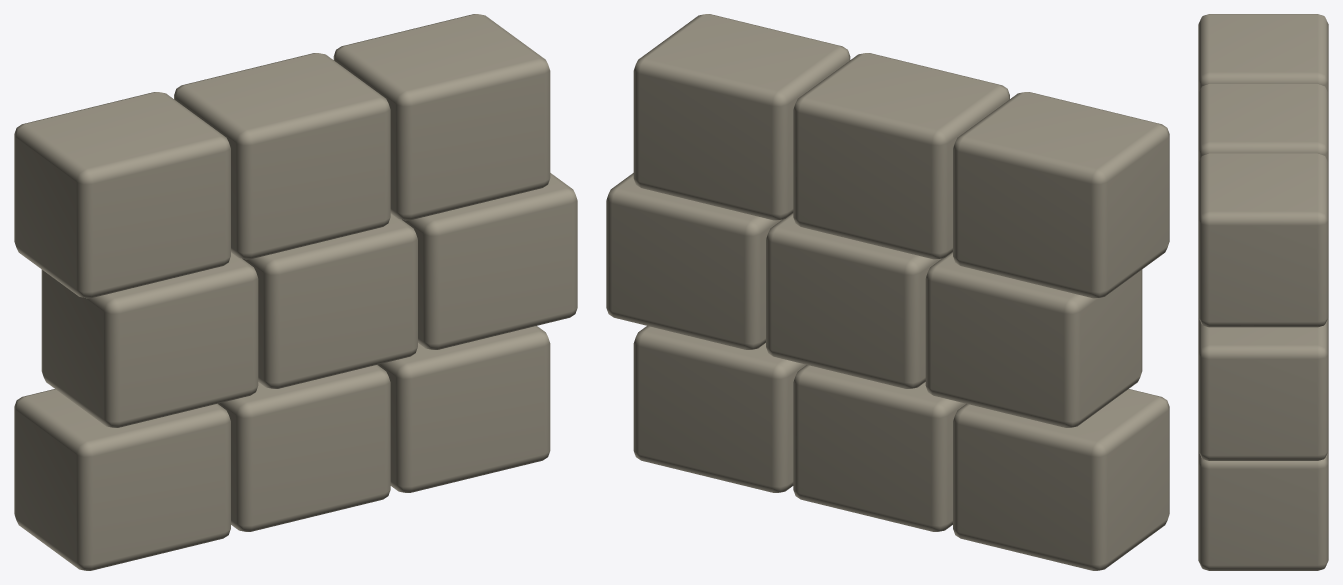
Rendered from SM_Env_WallModule.fbx.
3 renders of one model, left to right at view 1: azimuth 30°, elevation 25°; view 2: azimuth 150°, elevation 25°; view 3: azimuth 270°, elevation 25°, orthographic. The views are drawn at different scales.
Parts seen in each view (by area): view 1: Wall_stone.006, Wall_stone, Wall_stone.008, Wall_stone.007, Wall_stone.003, Wall_stone.002, Wall_stone.005, Wall_stone.004, Wall_stone.001; view 2: Wall_stone.006, Wall_stone, Wall_stone.008, Wall_stone.007, Wall_stone.003, Wall_stone.002, Wall_stone.005, Wall_stone.004, Wall_stone.001; view 3: Wall_stone.008, Wall_stone.005, Wall_stone.002, Wall_stone.007, Wall_stone.006.
Boxes of the visible parts, left/top/right/bottom form: Wall_stone.006: left=14, top=92, right=230, bottom=298; Wall_stone: left=14, top=389, right=230, bottom=570; Wall_stone.008: left=333, top=14, right=550, bottom=220; Wall_stone.007: left=174, top=53, right=390, bottom=259; Wall_stone.003: left=41, top=252, right=258, bottom=427; Wall_stone.002: left=377, top=326, right=550, bottom=492; Wall_stone.005: left=402, top=173, right=577, bottom=349; Wall_stone.004: left=242, top=213, right=417, bottom=388; Wall_stone.001: left=218, top=365, right=390, bottom=531; Wall_stone.006: left=953, top=92, right=1169, bottom=298; Wall_stone: left=953, top=389, right=1169, bottom=570; Wall_stone.008: left=633, top=14, right=850, bottom=220; Wall_stone.007: left=793, top=53, right=1009, bottom=259; Wall_stone.003: left=925, top=252, right=1142, bottom=427; Wall_stone.002: left=633, top=326, right=806, bottom=492; Wall_stone.005: left=606, top=173, right=781, bottom=349; Wall_stone.004: left=766, top=213, right=941, bottom=388; Wall_stone.001: left=793, top=365, right=965, bottom=531; Wall_stone.008: left=1198, top=153, right=1328, bottom=327; Wall_stone.005: left=1198, top=317, right=1328, bottom=460; Wall_stone.002: left=1198, top=451, right=1328, bottom=570; Wall_stone.007: left=1198, top=83, right=1328, bottom=162; Wall_stone.006: left=1198, top=14, right=1328, bottom=93.
Size of what is drawn, in the model's own units: 119 by 30 by 91.5.
